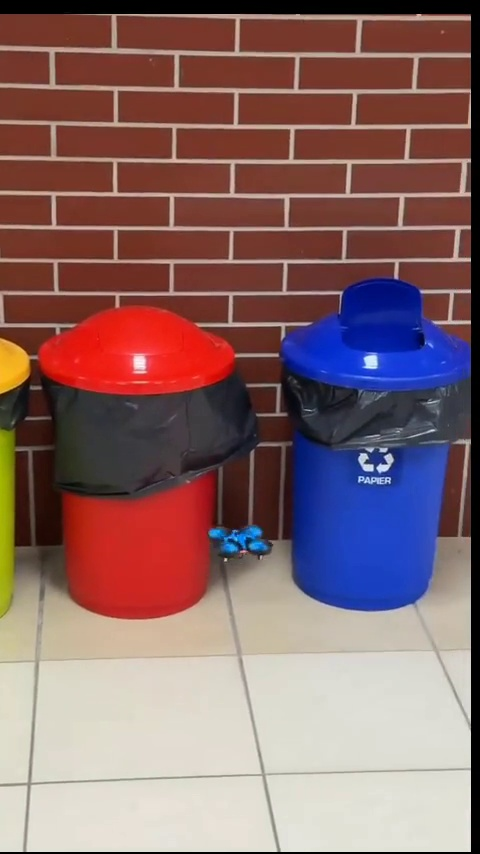drone: (204, 526, 272, 559)
